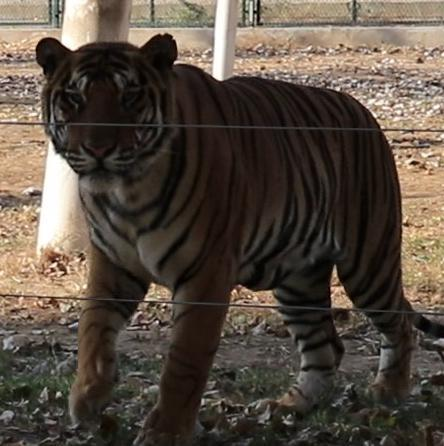tiger: (36, 34, 411, 445)
